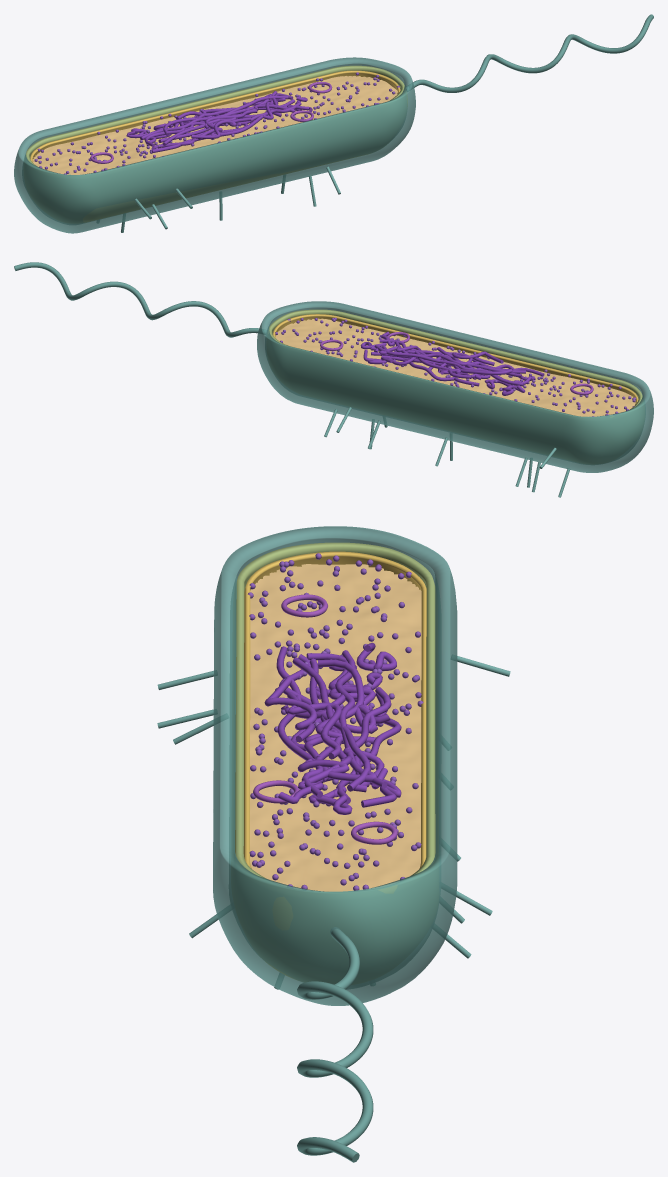
The model's file is bacteria.glb.
The picture shows the model from 3 angles, top to bottom: view 1: azimuth 30°, elevation 25°; view 2: azimuth 150°, elevation 25°; view 3: azimuth 270°, elevation 25°; orthographic projection. The views are drawn at different scales.
Visible parts, largest first — view 1: capsule, cytosol, nucleoid, bacterial-wall, membrane, flagellum, bacterial-ribosomes, pili, plasmid; view 2: capsule, cytosol, nucleoid, bacterial-wall, bacterial-ribosomes, membrane, flagellum, pili, plasmid; view 3: capsule, cytosol, nucleoid, bacterial-wall, bacterial-ribosomes, membrane, flagellum, pili, plasmid.
Part boxes in pixels (x1,y1,x2,y2): capsule: [14, 57, 415, 233]; cytosol: [32, 76, 397, 174]; nucleoid: [126, 91, 312, 152]; bacterial-wall: [26, 65, 407, 222]; membrane: [30, 70, 400, 162]; flagellum: [406, 14, 653, 92]; bacterial-ribosomes: [34, 72, 399, 174]; pili: [121, 166, 340, 232]; plasmid: [90, 82, 332, 163]; capsule: [257, 301, 653, 472]; cytosol: [275, 318, 635, 416]; nucleoid: [360, 331, 544, 395]; bacterial-wall: [267, 309, 642, 417]; bacterial-ribosomes: [275, 317, 636, 416]; membrane: [272, 314, 638, 404]; flagellum: [14, 262, 266, 337]; pili: [324, 407, 570, 497]; plasmid: [320, 332, 593, 394]; capsule: [213, 526, 457, 1005]; cytosol: [250, 564, 421, 891]; nucleoid: [264, 642, 401, 814]; bacterial-wall: [235, 542, 435, 980]; bacterial-ribosomes: [248, 553, 423, 890]; membrane: [243, 551, 426, 868]; flagellum: [297, 927, 373, 1162]; pili: [157, 656, 510, 989]; plasmid: [253, 594, 397, 844].
Bounding box in the file's own units: 11.87 × 1.87 × 2.89.
